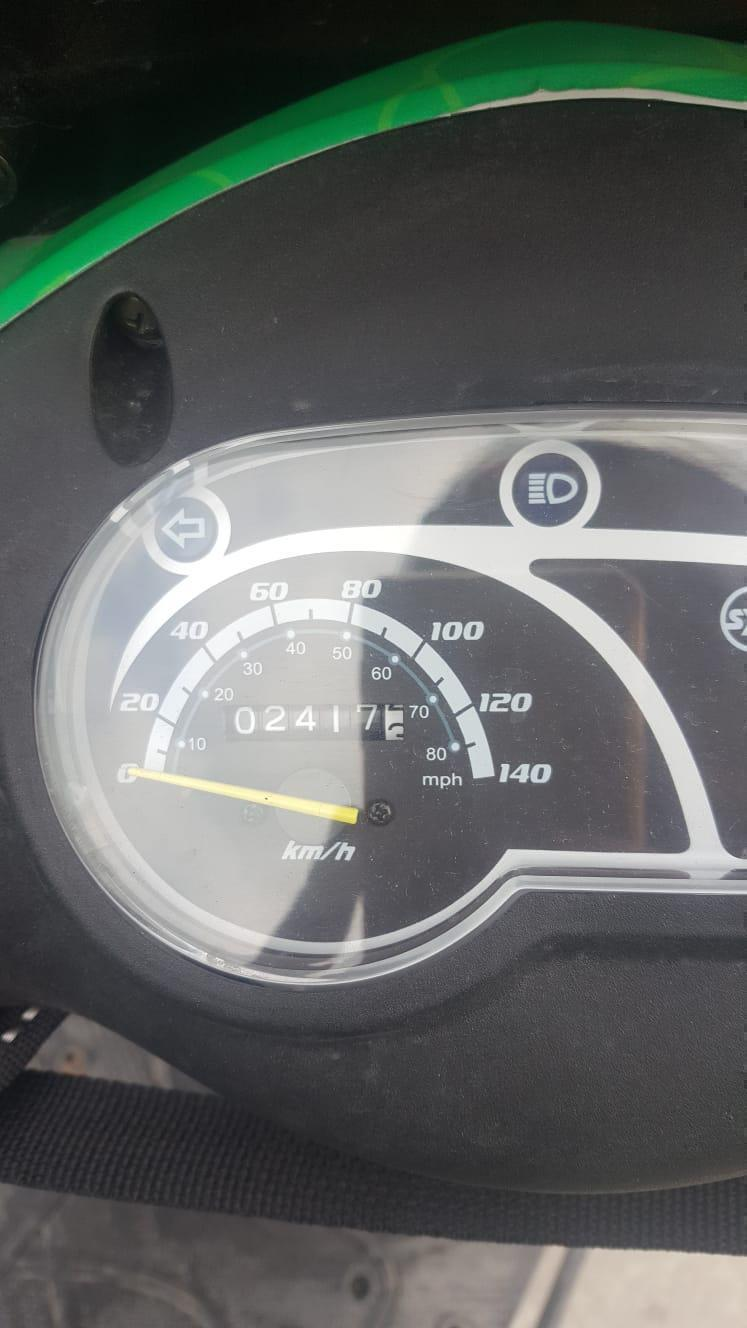0: (234, 704, 255, 735)
1: (328, 703, 345, 735)
2: (262, 704, 286, 733)
3: (386, 718, 408, 742)
4: (294, 705, 317, 732)
7: (357, 703, 376, 732)
odometer: (222, 702, 409, 743)
